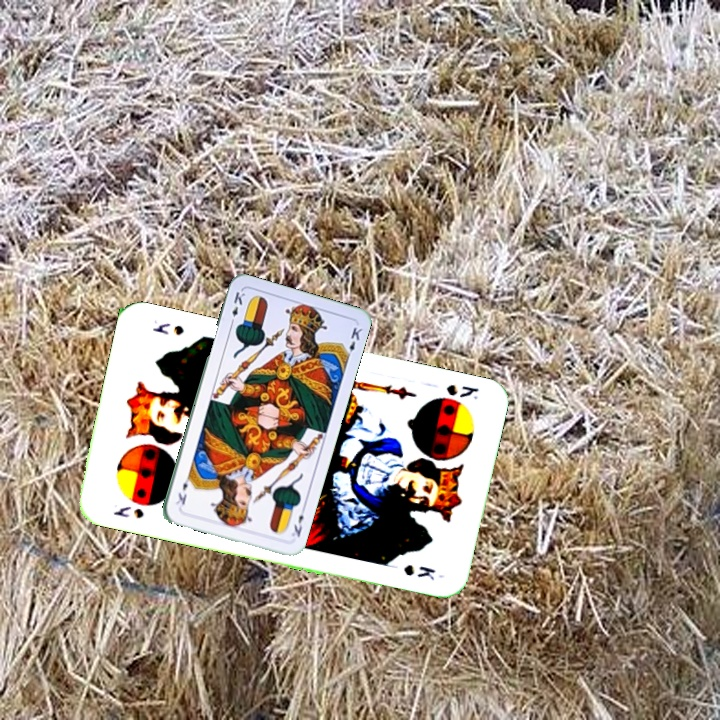EK: (286, 503, 308, 543), (227, 288, 247, 328)
SK: (442, 380, 482, 402), (109, 502, 147, 521)
